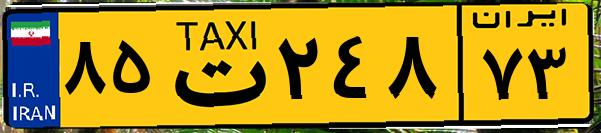2: (270, 28, 330, 110)
3: (525, 38, 570, 115)
4: (330, 28, 385, 110)
5: (110, 28, 158, 98)
7: (475, 38, 525, 113)
8: (385, 28, 445, 110), (57, 26, 110, 100)
ت: (158, 12, 270, 120)
